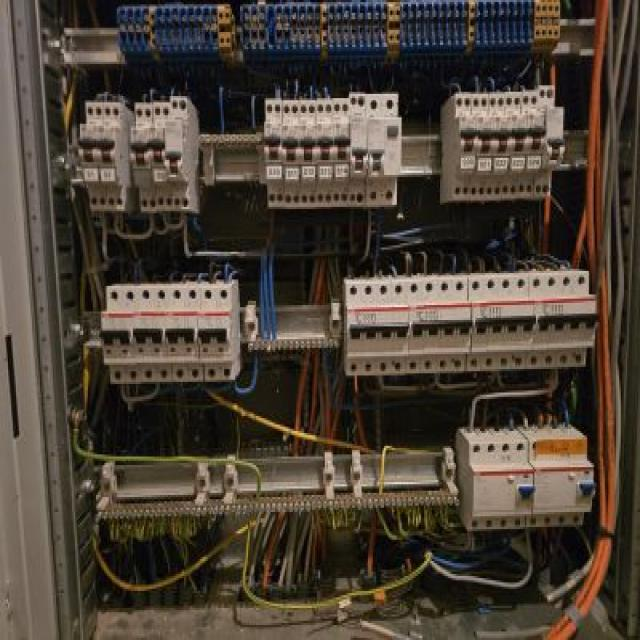FI: (517, 426, 595, 527), (461, 430, 535, 532)
FI_Sicherungskombi: (349, 94, 403, 206), (534, 85, 565, 197), (164, 98, 190, 212)
Sicherungen_230V: (100, 286, 141, 384), (134, 285, 173, 382), (197, 284, 236, 380), (97, 102, 128, 210), (167, 284, 201, 382), (78, 100, 108, 210), (517, 92, 547, 199), (486, 93, 514, 202), (502, 93, 529, 201), (131, 103, 157, 214), (452, 94, 476, 201), (470, 94, 494, 200), (149, 102, 172, 212), (264, 98, 284, 211), (299, 98, 318, 208), (314, 98, 332, 208), (281, 99, 299, 208), (332, 98, 349, 208)
Sicherungen_400V: (343, 278, 410, 376), (531, 269, 593, 364), (469, 274, 528, 368), (412, 274, 466, 371)
Verbinder: (116, 3, 557, 56)
